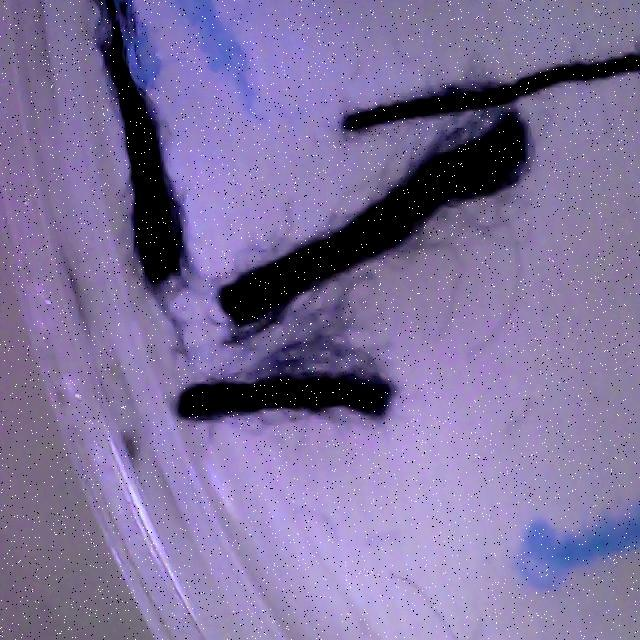fibers: (205, 106, 549, 334), (73, 0, 196, 288), (339, 51, 640, 132), (179, 373, 394, 420), (1, 1, 1, 1)
